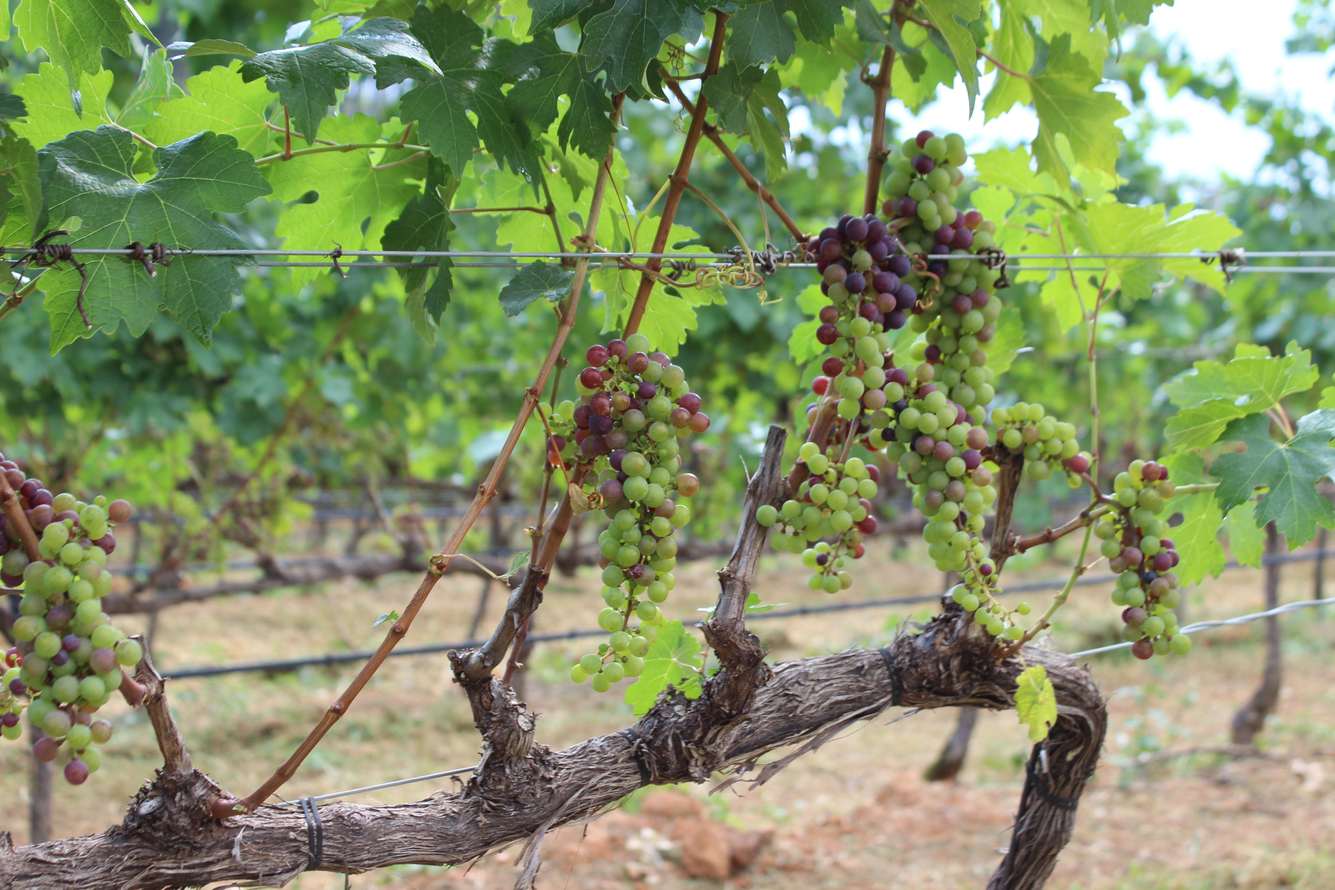leaf: (38, 126, 271, 248), (400, 4, 537, 176), (269, 114, 426, 251), (1210, 409, 1335, 549), (1030, 34, 1128, 182), (84, 255, 239, 344), (240, 42, 375, 144), (144, 61, 274, 156), (582, 0, 704, 91), (13, 0, 132, 88), (9, 62, 114, 148), (625, 620, 702, 716), (381, 157, 459, 251), (917, 0, 981, 114), (116, 49, 183, 131), (1167, 491, 1226, 584), (398, 257, 453, 343), (727, 0, 795, 69), (499, 261, 574, 317), (42, 267, 90, 353), (1014, 665, 1057, 742), (1223, 500, 1265, 567), (1164, 451, 1209, 485), (291, 267, 326, 285), (5, 29, 8, 35), (1174, 541, 1176, 543), (215, 131, 217, 131), (800, 14, 800, 20)
